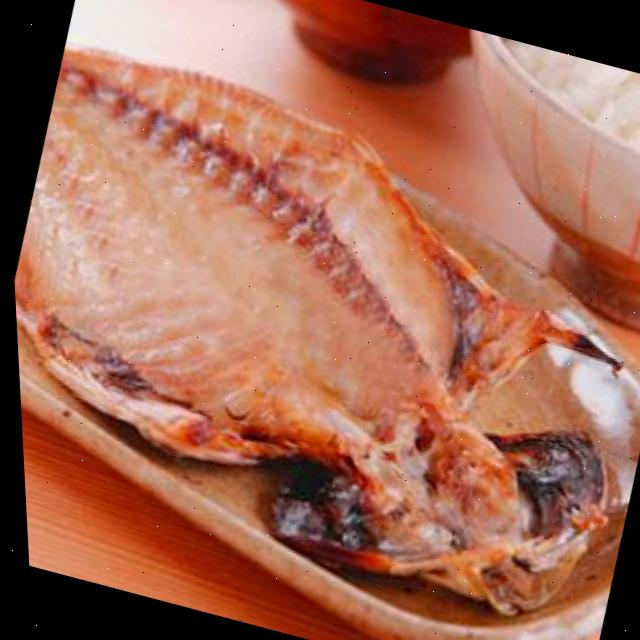熟制海鲜: (0, 9, 640, 640)
